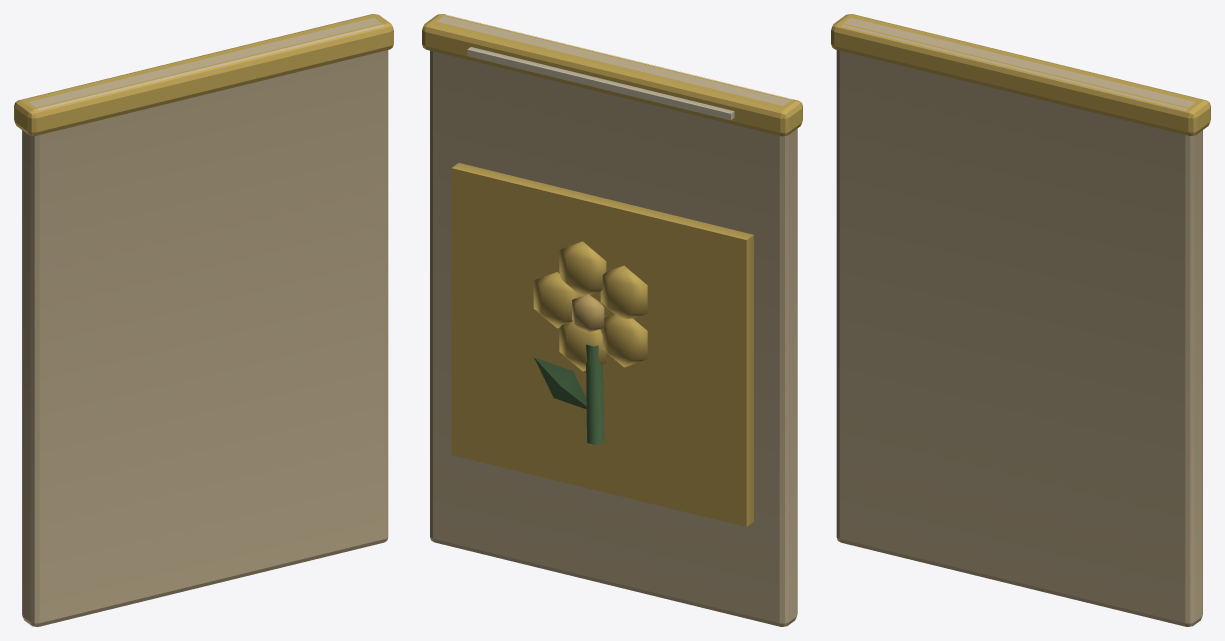
The model's file is seed_flower_yellow.glb.
3 views of the same model, side by side, from view 1: azimuth 30°, elevation 25°; view 2: azimuth 150°, elevation 25°; view 3: azimuth 330°, elevation 25° (orthographic).
Bounding box in the file's own units: 0.174 × 0.236 × 0.0318.
